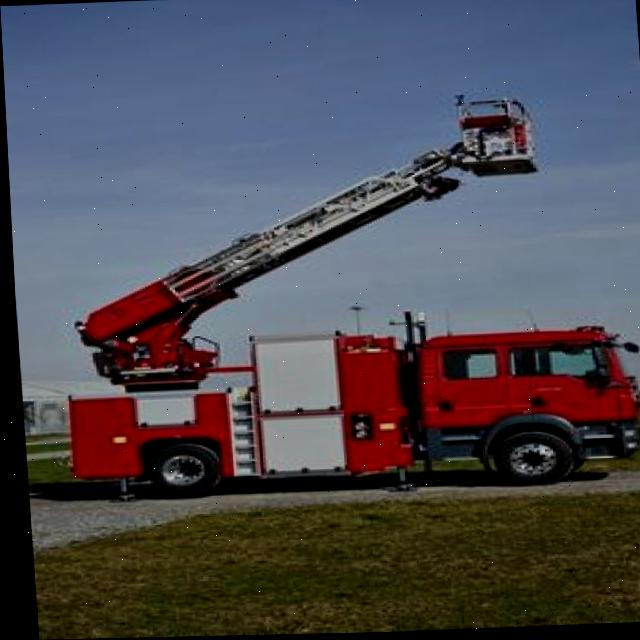emergency: (44, 93, 640, 503)
